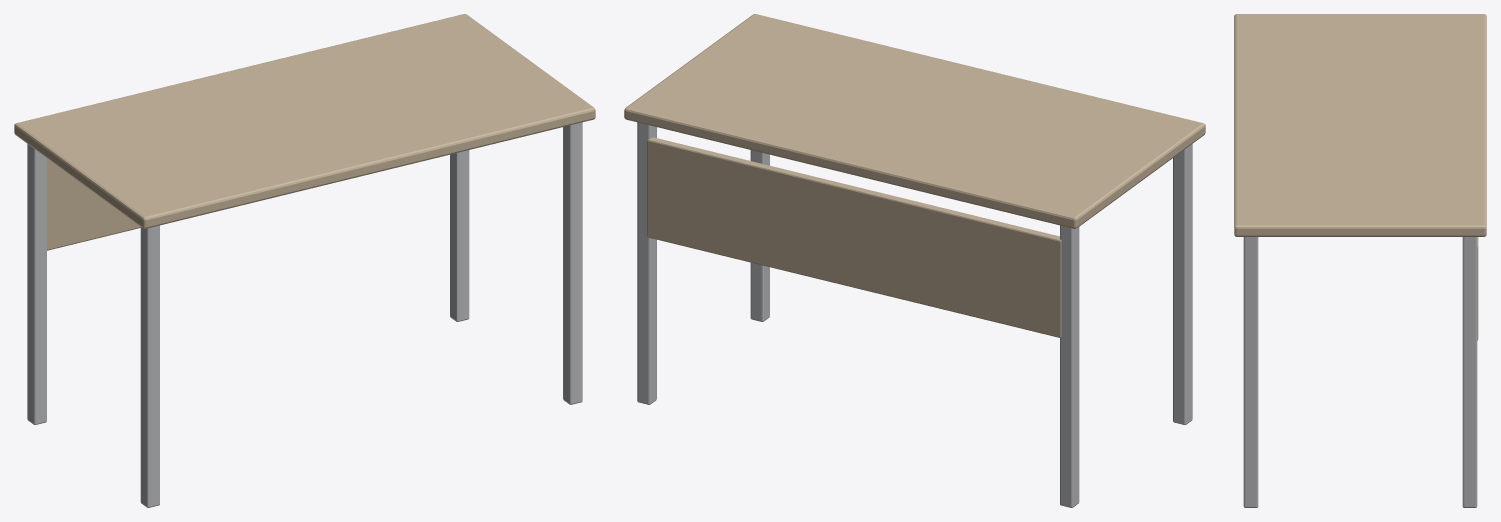
Rendered from desk.fbx.
The picture shows the model from 3 angles, left to right: view 1: azimuth 30°, elevation 25°; view 2: azimuth 150°, elevation 25°; view 3: azimuth 270°, elevation 25°; orthographic projection. The views are drawn at different scales.
Visible parts, largest first — view 1: desk; view 2: desk; view 3: desk.
Part boxes in pixels (<box>): desk: <box>14,14,595,507</box>; desk: <box>624,14,1205,507</box>; desk: <box>1234,14,1486,507</box>.
Size of the model in its own units: 1.2 by 0.75 by 0.6.
